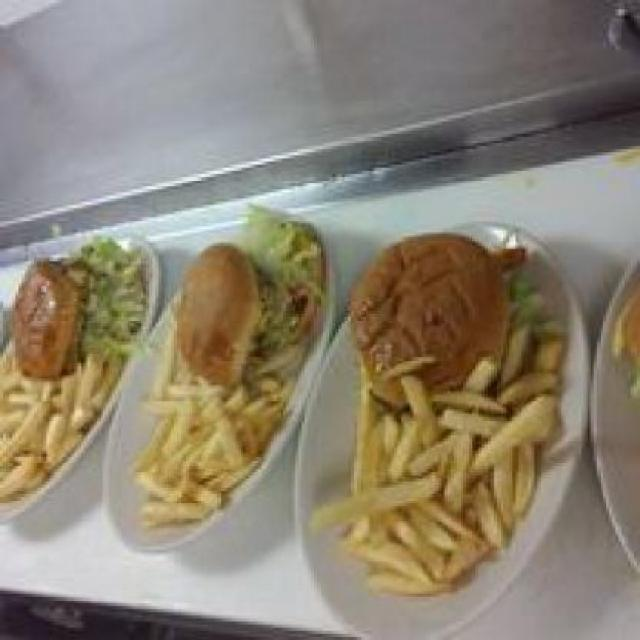hamburger: (12, 205, 637, 370)
